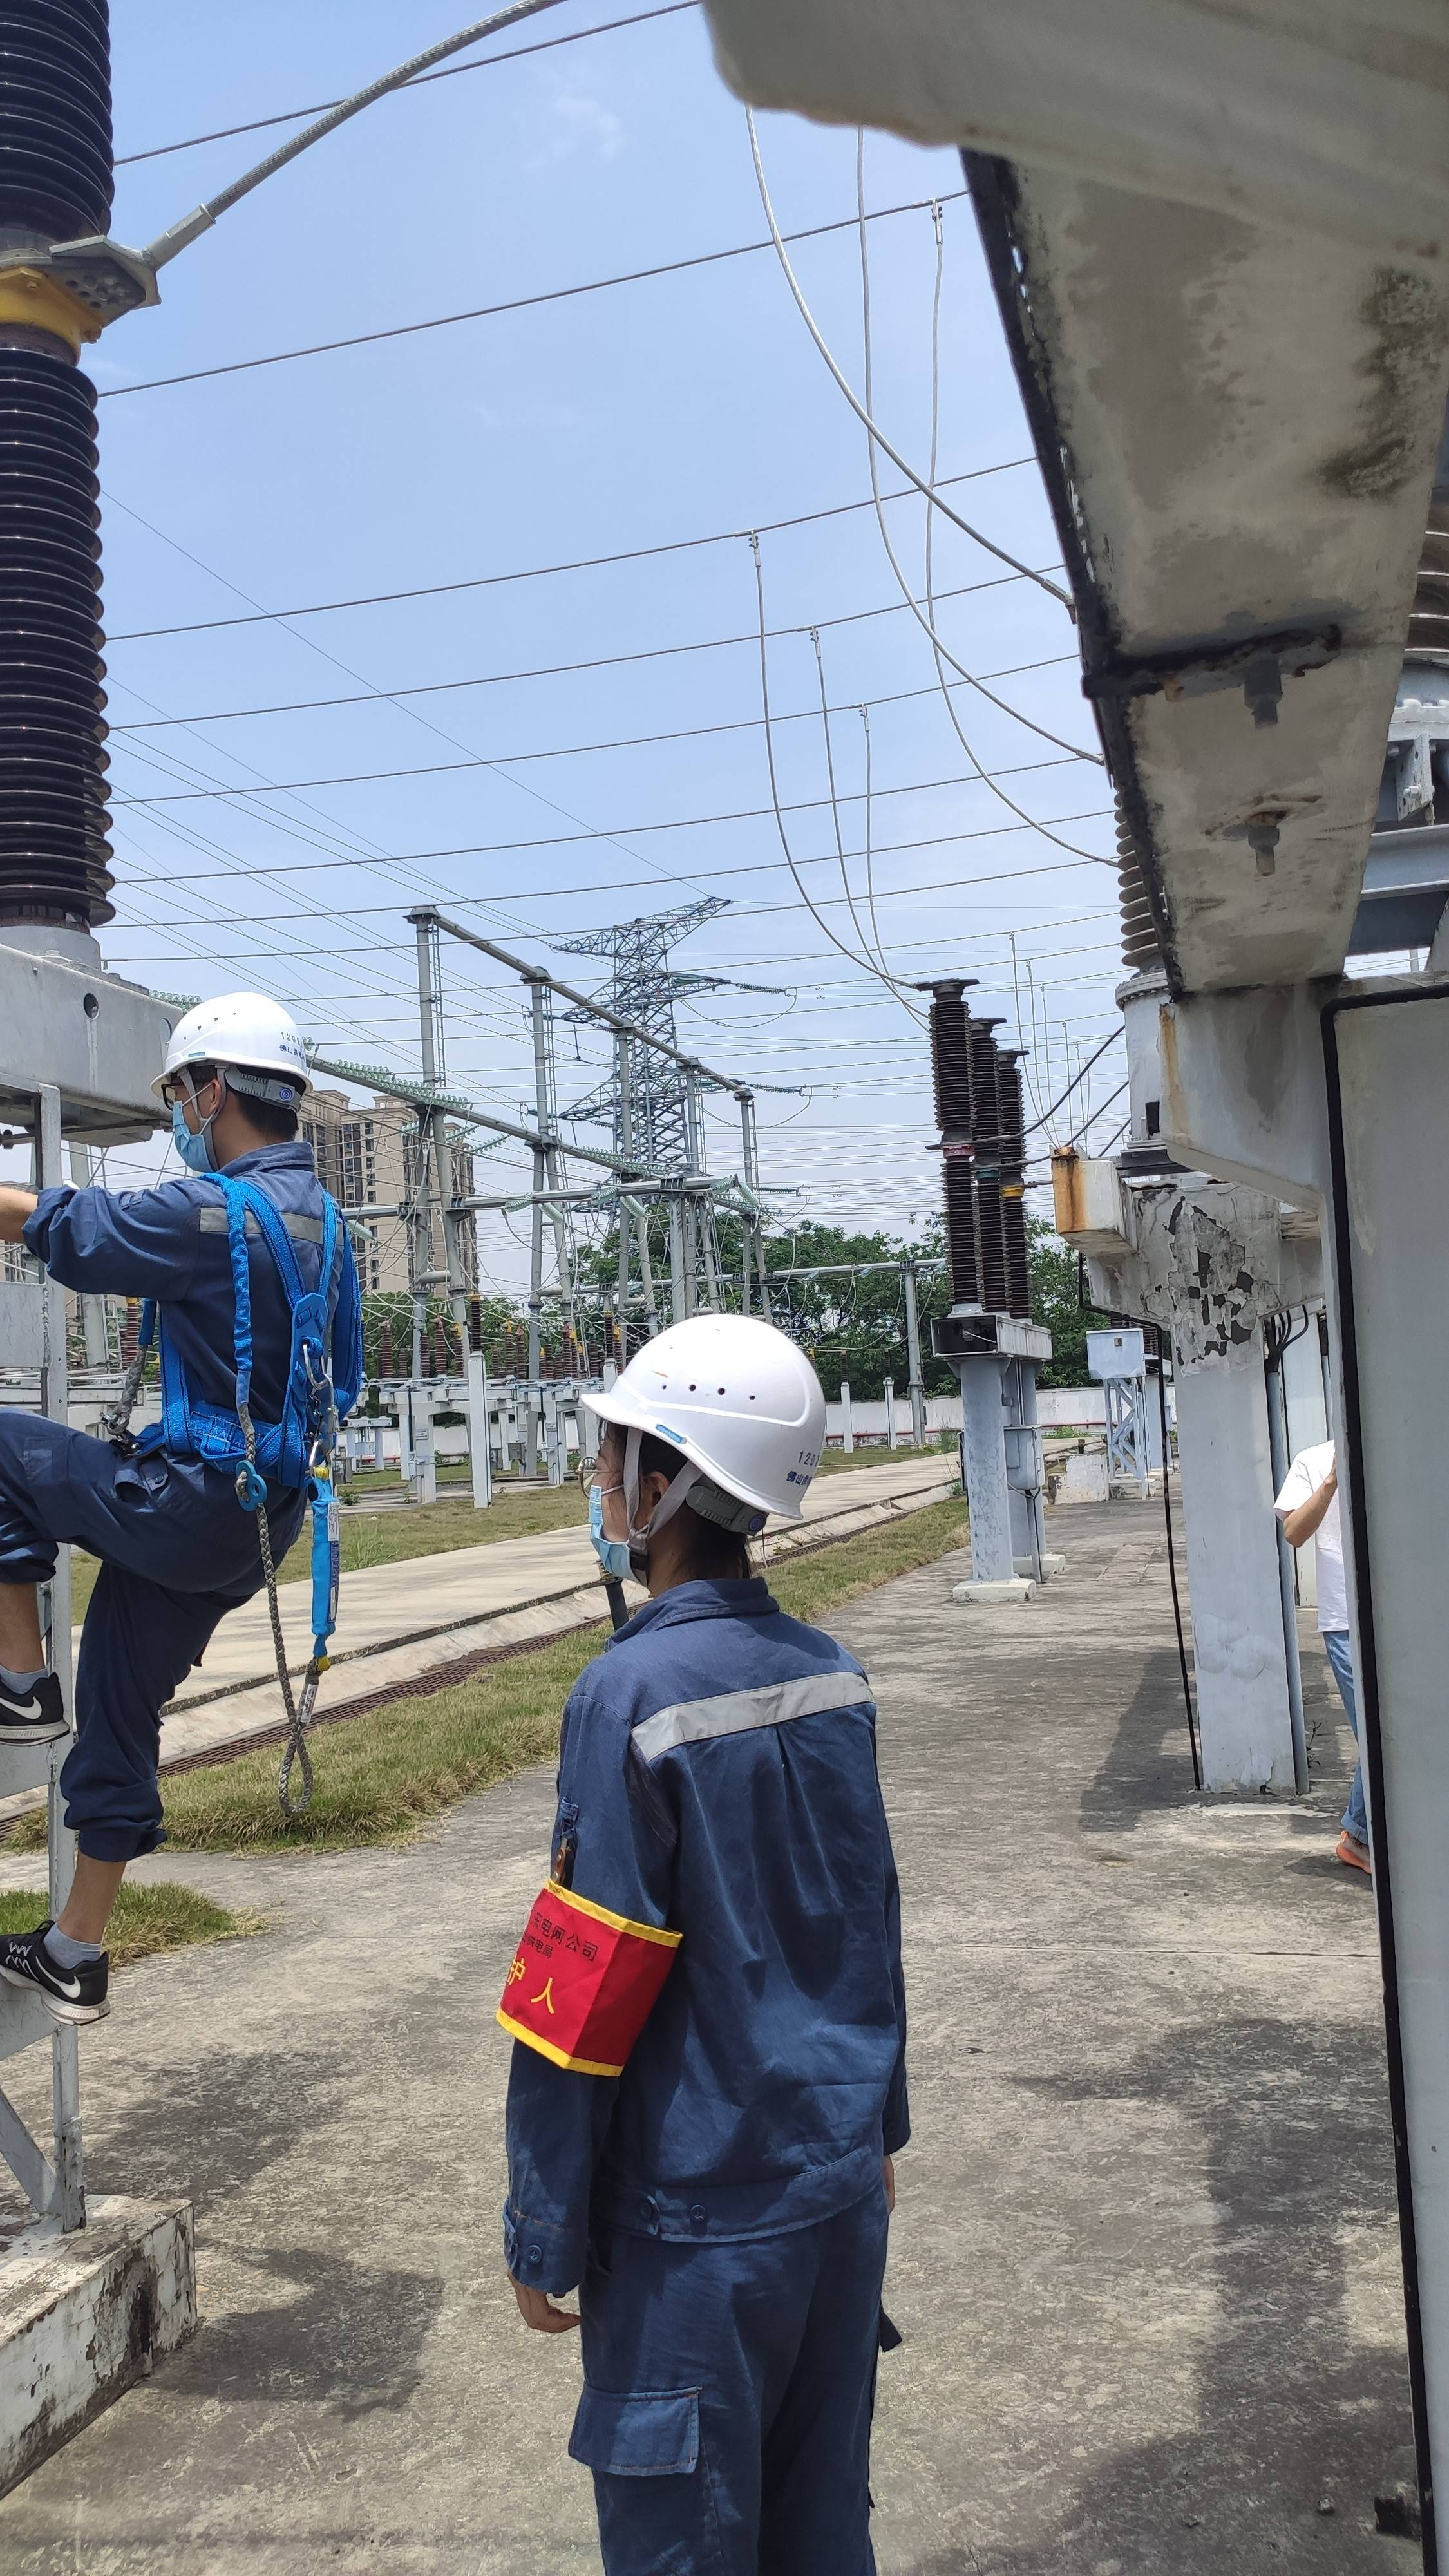downsuit: (27, 1451, 301, 1872), (564, 2252, 901, 2565)
upsuit: (478, 1576, 931, 2240), (37, 1125, 391, 1433)
wrongbottom: (58, 1796, 145, 1953), (2, 1552, 58, 1681)
